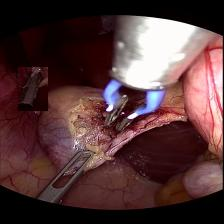Bipolar: (100, 55, 177, 132)
Grasper: (36, 148, 100, 204), (18, 66, 48, 110)
